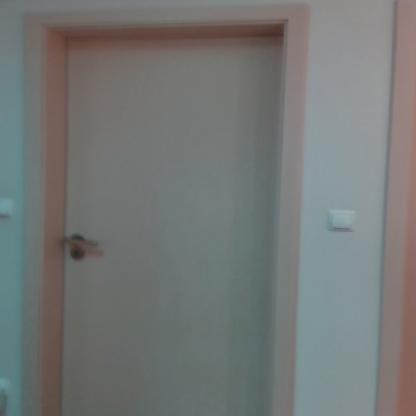door: (65, 41, 280, 416)
lever: (64, 235, 98, 250)
